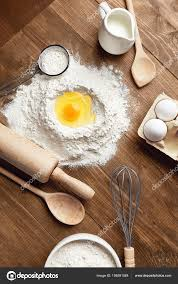Eggs: (146, 89, 175, 149)
